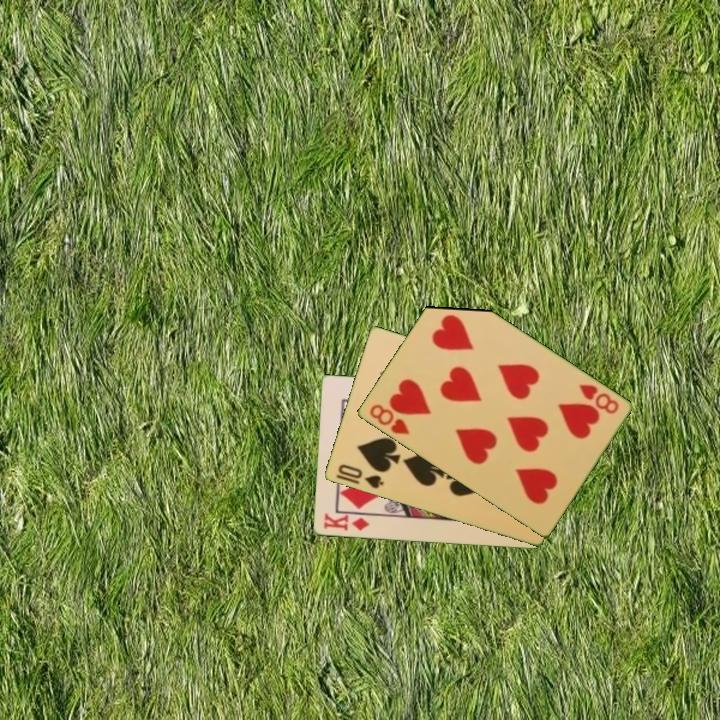10s: (334, 461, 386, 492)
8h: (365, 400, 412, 438), (575, 381, 621, 417)
Kd: (320, 510, 372, 534)
